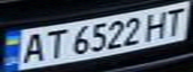2: (121, 15, 148, 47), (106, 17, 130, 51)
5: (87, 20, 112, 53)
6: (69, 22, 93, 56)
A: (15, 30, 51, 64)
H: (139, 9, 172, 40)
T: (157, 4, 193, 37), (39, 27, 69, 61)
